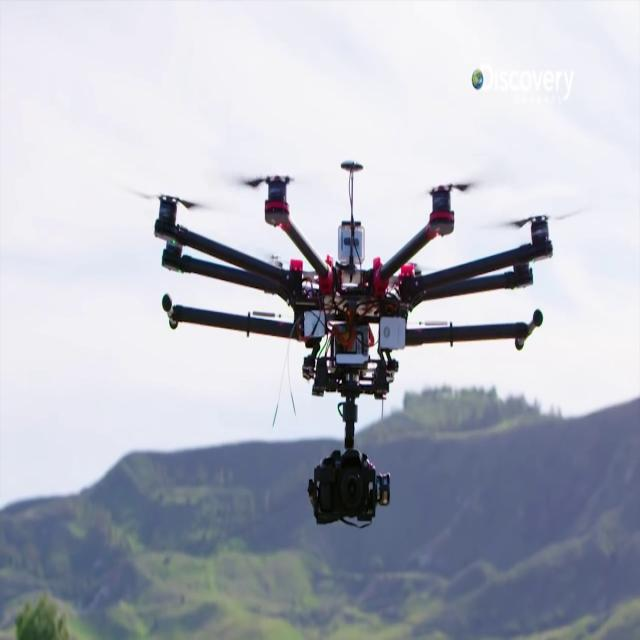drone: (125, 117, 554, 544)
